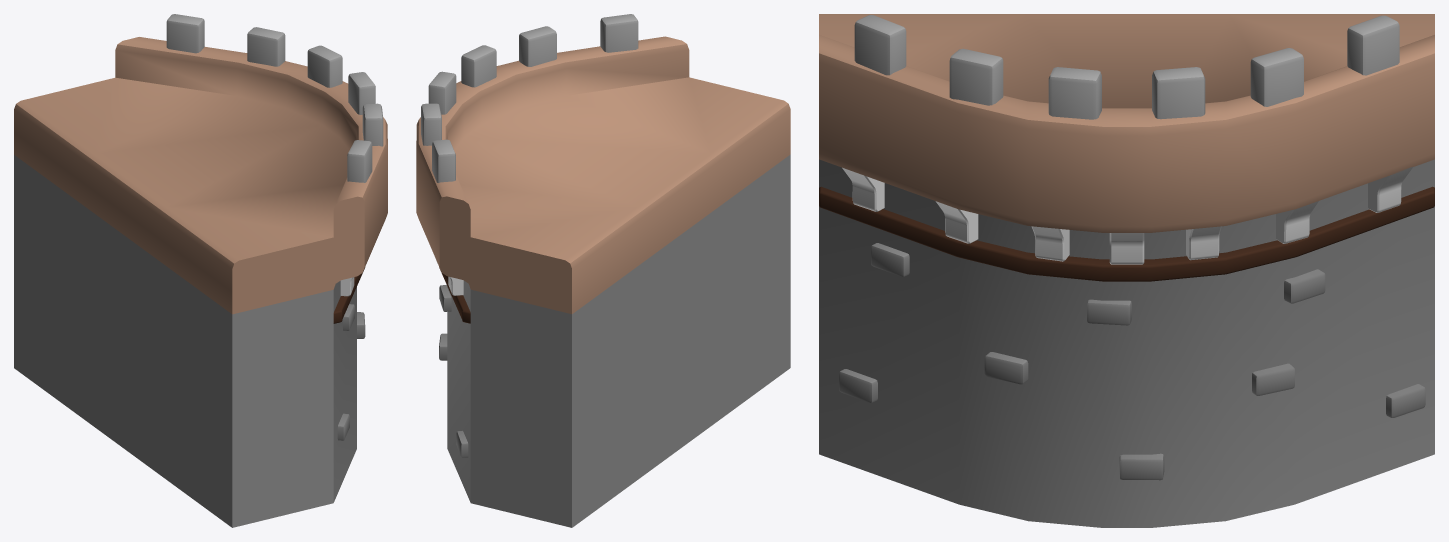
Rendered from Wall_2.fbx.
3 renders of one model, left to right at view 1: azimuth 30°, elevation 25°; view 2: azimuth 150°, elevation 25°; view 3: azimuth 270°, elevation 25°, orthographic. The views are drawn at different scales.
Visible parts, largest first — view 1: Wall_2; view 2: Wall_2; view 3: Wall_2.
Boxes of the visible parts, x1,y1,x2,y2 form: Wall_2: (14, 14, 387, 527); Wall_2: (416, 14, 790, 527); Wall_2: (819, 14, 1434, 527).
Bounding box in the file's own units: 1.88 × 2.48 × 2.98.
